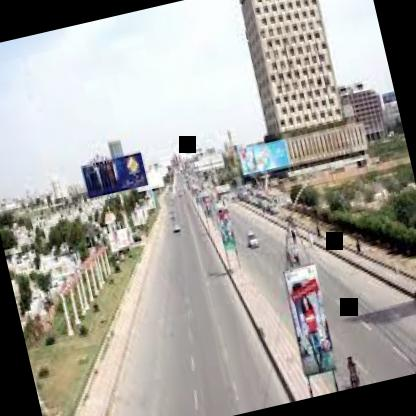car: (239, 224, 265, 255)
